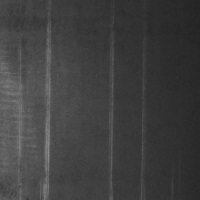scratches: (40, 12, 52, 199), (104, 17, 116, 198), (138, 35, 147, 198)
